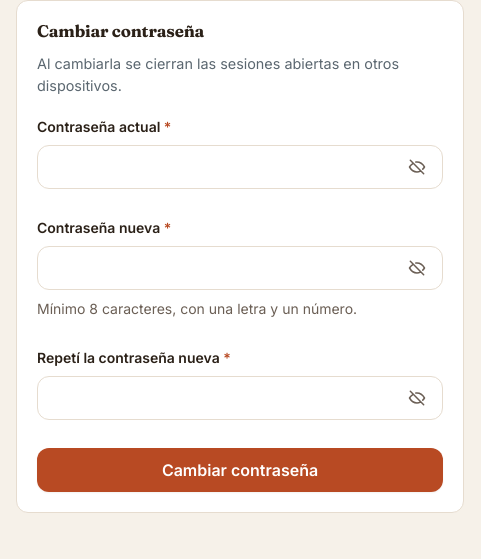
ChangePasswordForm › no manda nada si la repetición no coincide
The image size is (481, 559).
In the password field labelled "Contraseña actual *": [240, 167] box [37, 145, 443, 189], type "Vieja1"
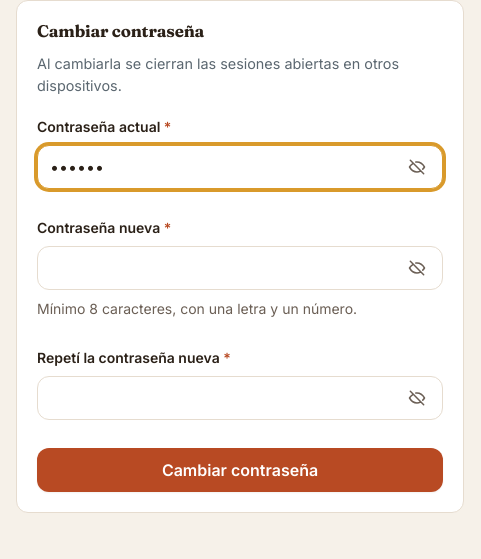
In the password field labelled "Contraseña nueva *": [240, 268] box [37, 246, 443, 290], type "NuevaClave9"
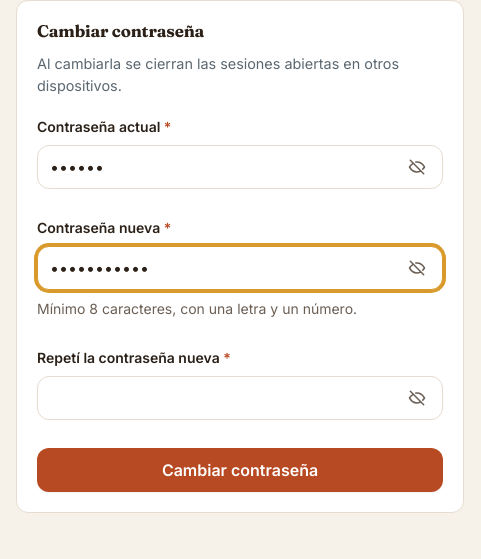
In the password field labelled "Repetí la contraseña nueva *": [240, 398] box [37, 376, 443, 420], type "OtraClave9"
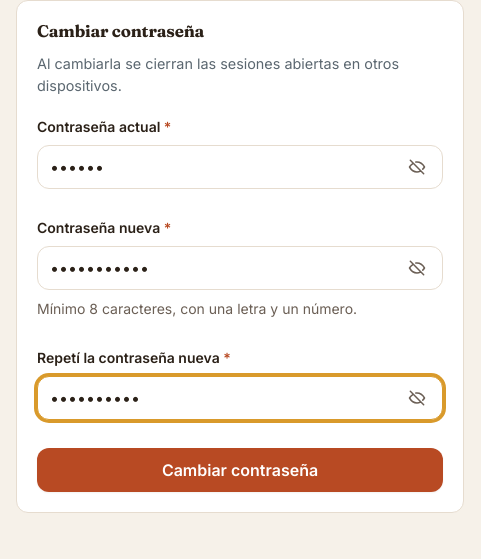
Click the button "Cambiar contraseña": [240, 470] box [37, 448, 443, 492]
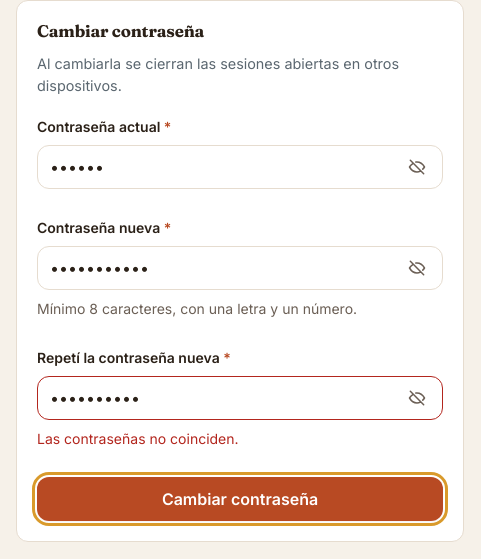
Result: the text "Las contraseñas no coinciden." is shown at [37, 430, 239, 447]
